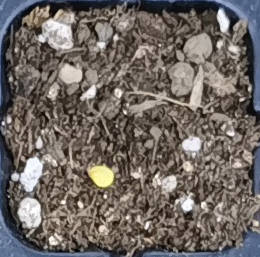pepper seed: (30, 70, 145, 257)
